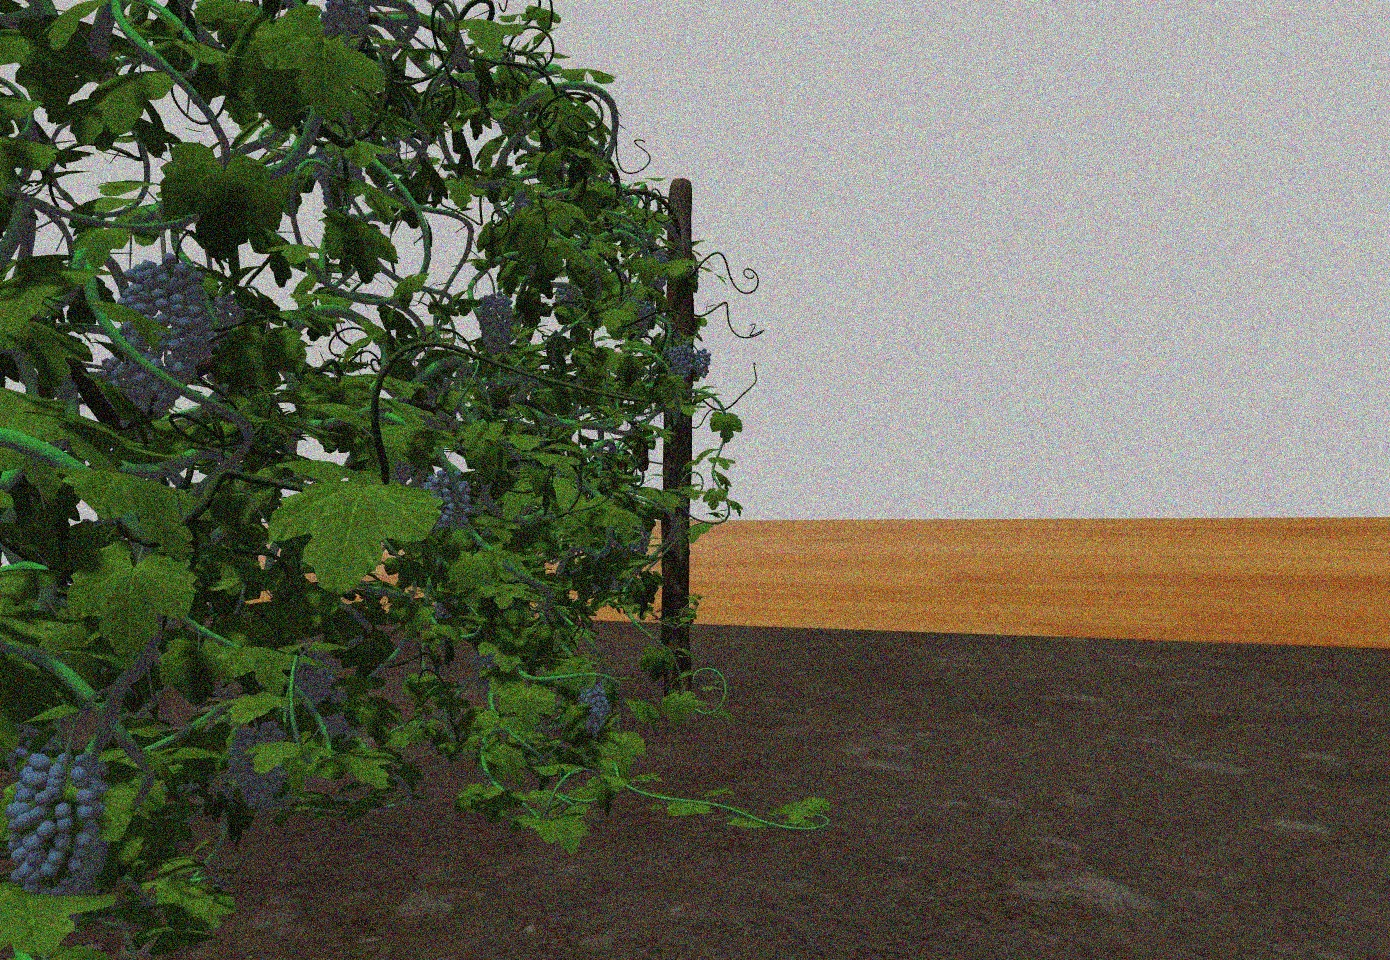grape: (0, 751, 108, 906), (113, 255, 209, 411), (227, 719, 289, 816), (424, 466, 474, 539), (293, 648, 334, 708), (476, 291, 516, 349), (575, 684, 611, 738), (321, 1, 367, 39), (666, 343, 695, 379), (692, 346, 713, 380)
